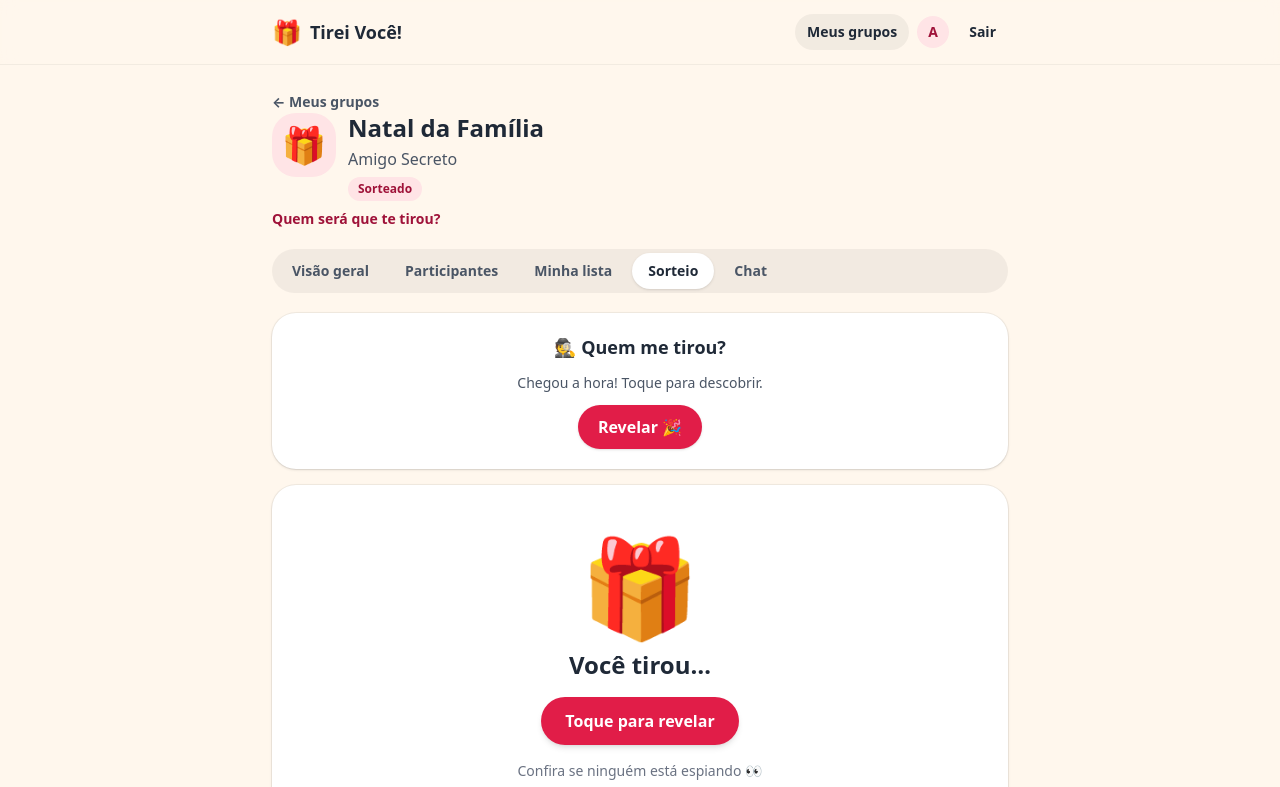
Test: revelação de quem me tirou só depois do evento
Step 1. Click the button "Revelar 🎉" → (640, 427), box [578,405,702,449]
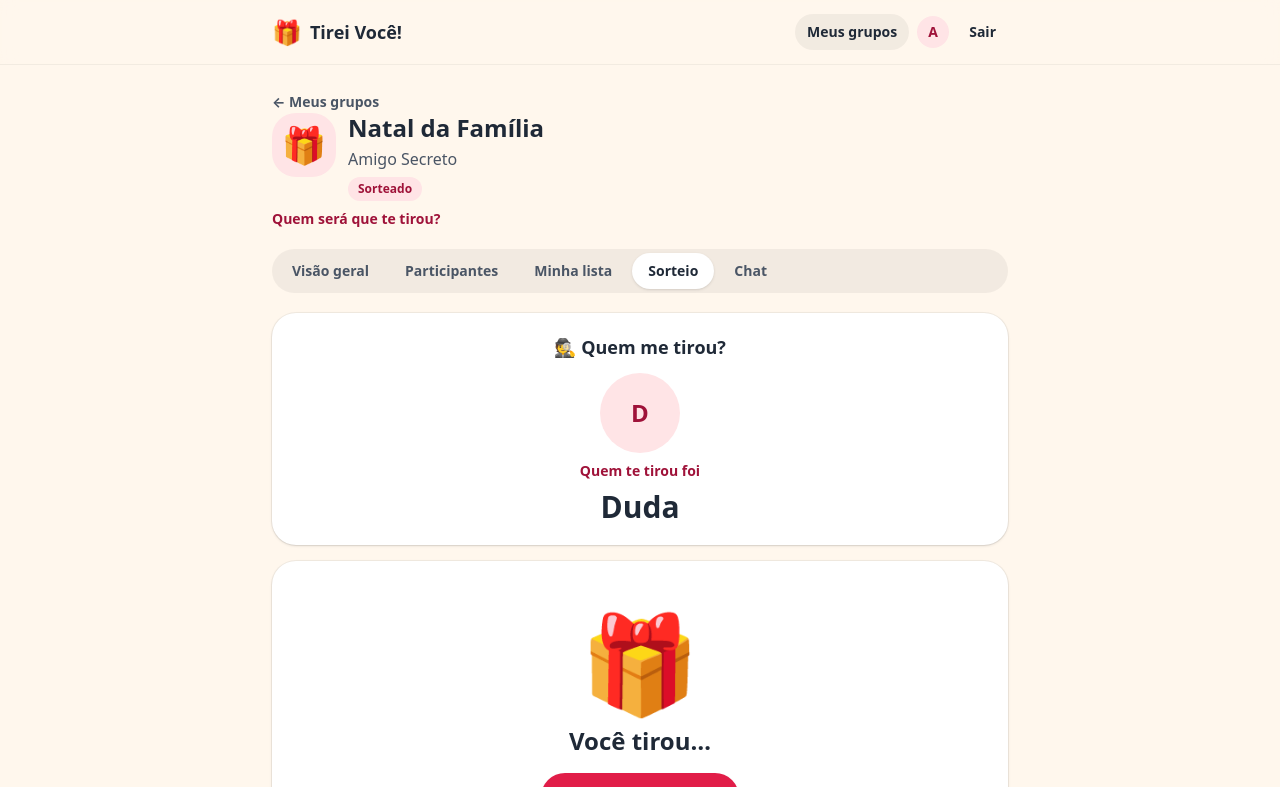
Expected: the text "Quem te tirou foi" is shown, [580,461,700,480]
Expected: the text "Duda" is shown, [600,486,680,527]
